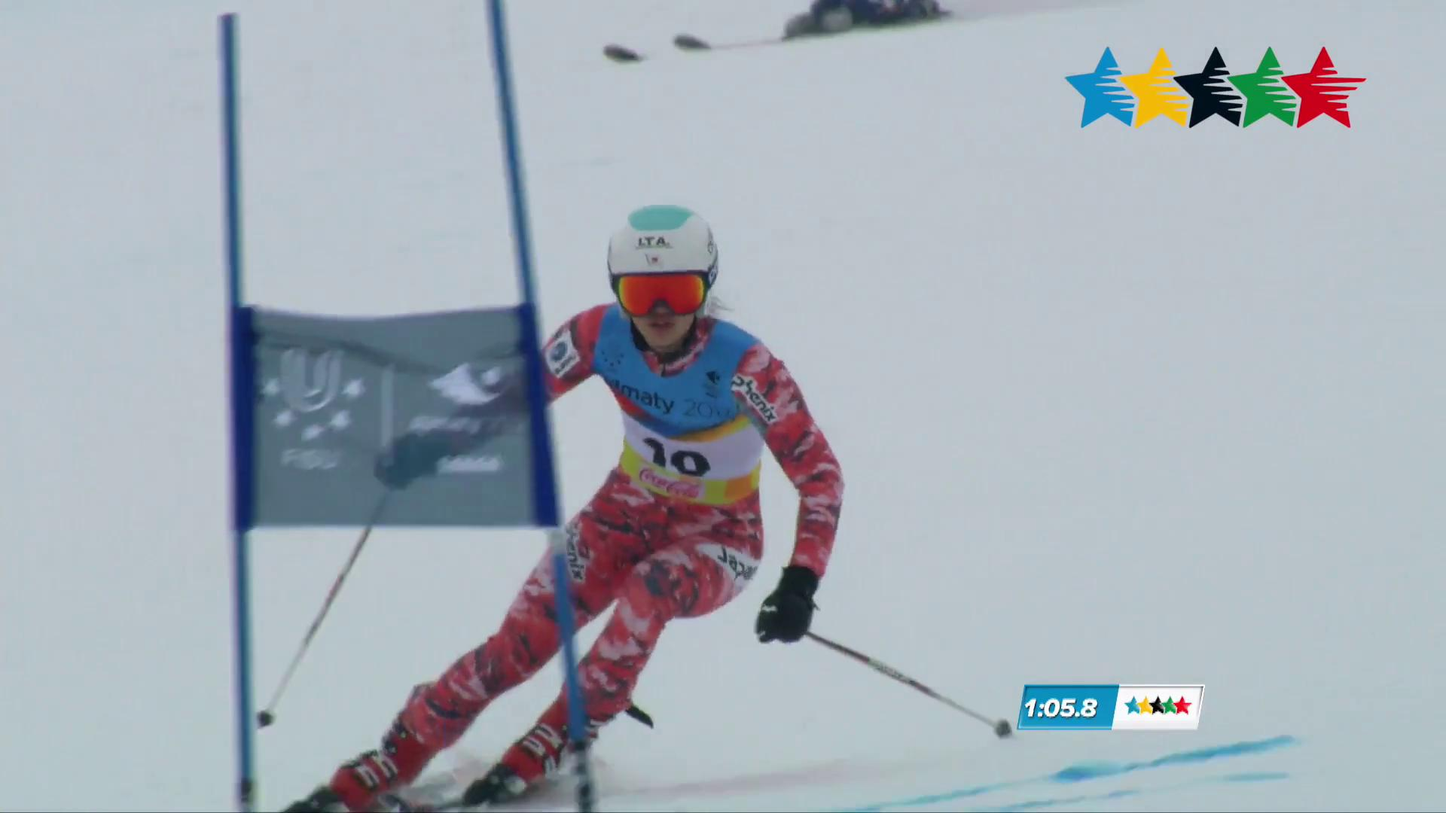gate: (487, 0, 596, 812), (218, 13, 256, 812)
